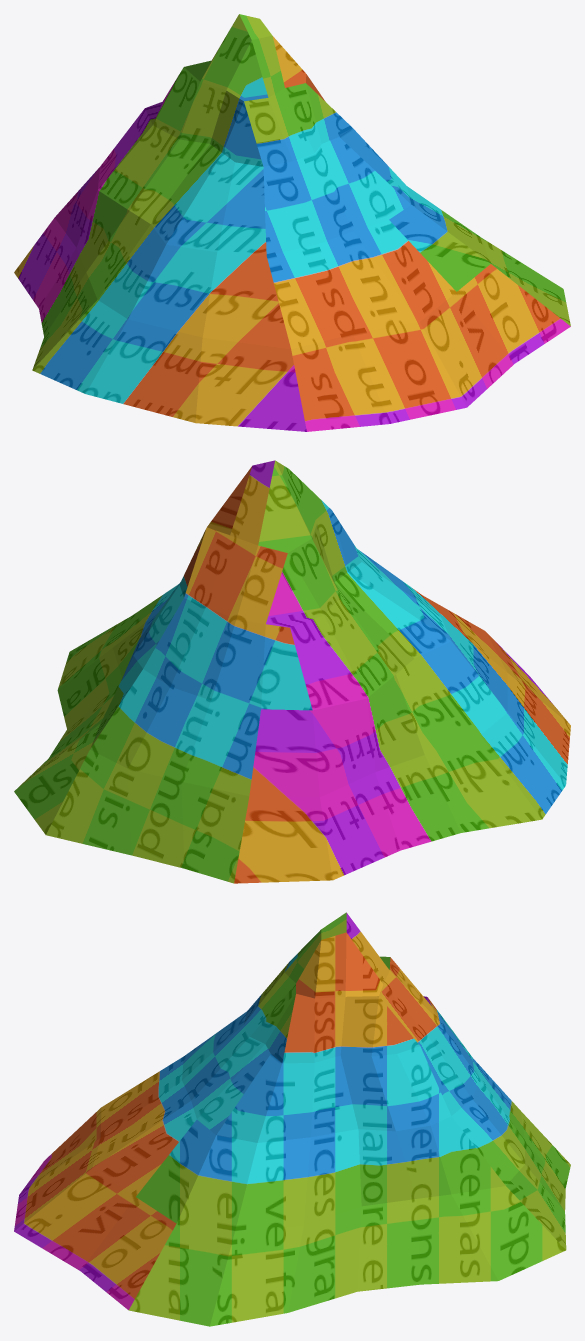
Rendered from SM_Mountain_7.fbx.
The picture shows the model from 3 angles, top to bottom: view 1: azimuth 30°, elevation 25°; view 2: azimuth 150°, elevation 25°; view 3: azimuth 270°, elevation 25°; orthographic projection. The views are drawn at different scales.
Visible parts, largest first — view 1: SM_Mountain_7; view 2: SM_Mountain_7; view 3: SM_Mountain_7.
Boxes of the visible parts, left/top/right/bottom form: SM_Mountain_7: left=14, top=14, right=570, bottom=431; SM_Mountain_7: left=14, top=460, right=570, bottom=883; SM_Mountain_7: left=14, top=912, right=570, bottom=1326.
Size of the model in its own units: 143 by 81.54 by 143.
Materials: 1 (1 with a texture image).
